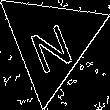N_NW: (25, 11, 77, 72)
